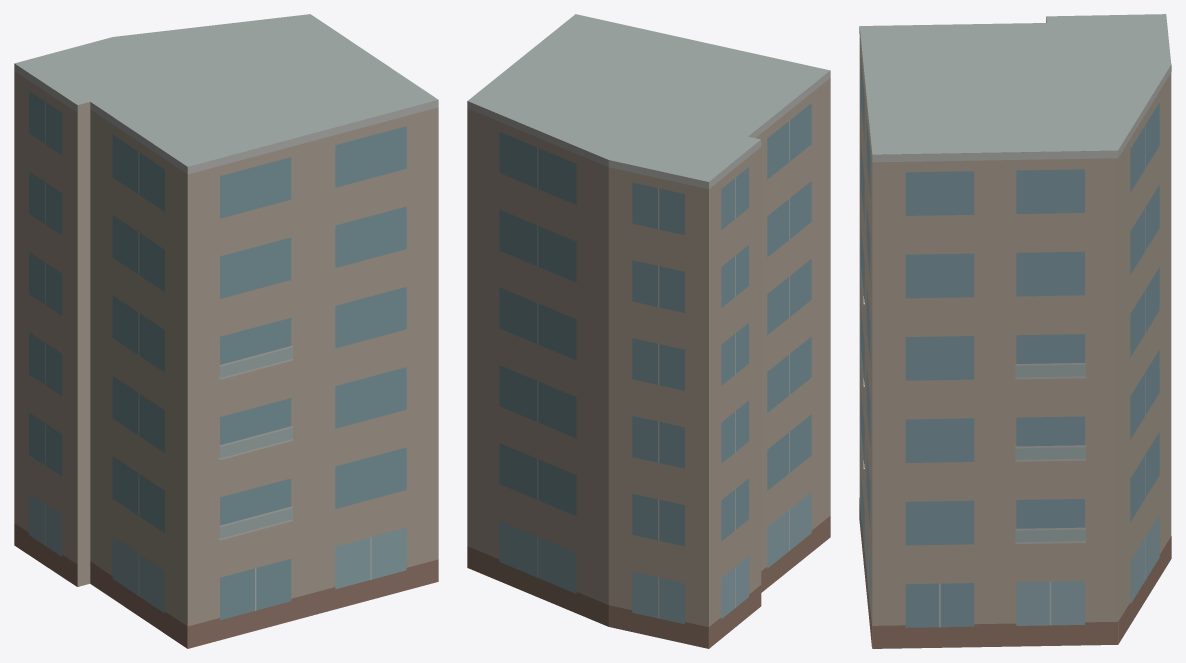
The model's file is survey-upis-32648761.glb.
The picture shows the model from 3 angles, left to right: view 1: azimuth 30°, elevation 25°; view 2: azimuth 150°, elevation 25°; view 3: azimuth 270°, elevation 25°; orthographic projection. The views are drawn at different scales.
Parts seen in each view (by area): view 1: survey-upis-32648761.tmp; view 2: survey-upis-32648761.tmp; view 3: survey-upis-32648761.tmp.
Boxes of the visible parts, x1,y1,x2,y2 form: survey-upis-32648761.tmp: (14,14,438,648); survey-upis-32648761.tmp: (467,14,830,648); survey-upis-32648761.tmp: (859,14,1171,648).
Size of the model in its own units: 9.53 by 15.6 by 8.93.
